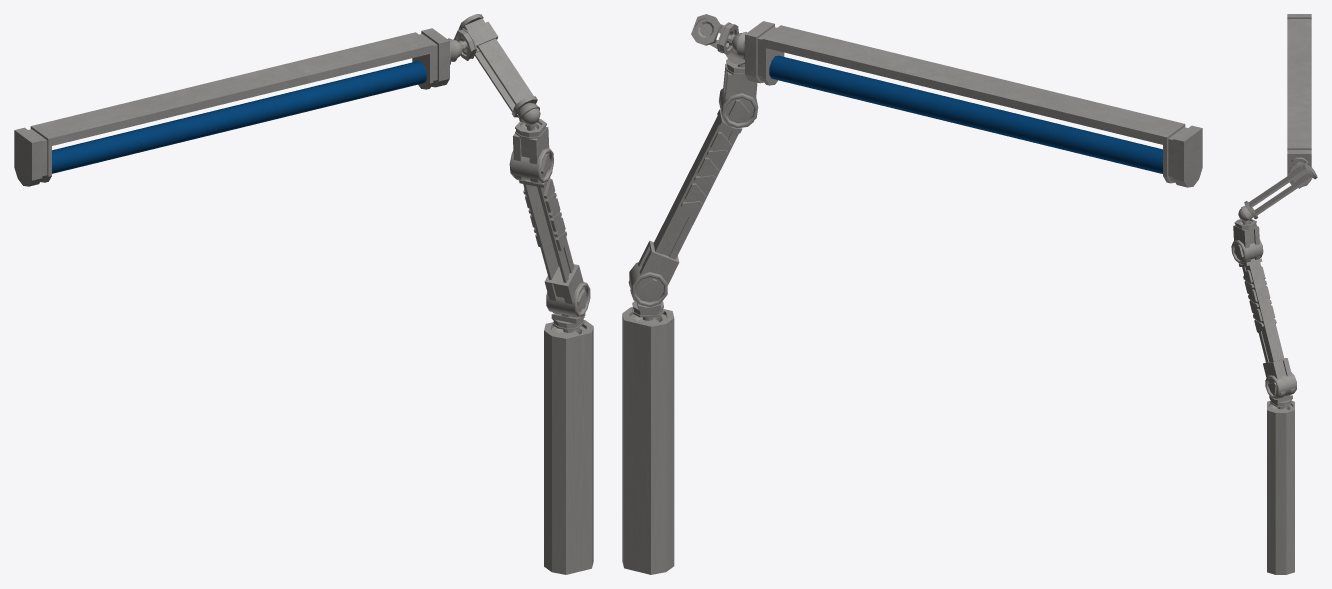
Rendered from Scifi Light 1.FBX.
3 views of the same model, side by side, from view 1: azimuth 30°, elevation 25°; view 2: azimuth 150°, elevation 25°; view 3: azimuth 270°, elevation 25° (orthographic). The views are drawn at different scales.
Parts seen in each view (by area): view 1: Scifi_Lights2_063; view 2: Scifi_Lights2_063; view 3: Scifi_Lights2_063.
Part boxes in pixels (x1,y1,x2,y2): Scifi_Lights2_063: [14, 14, 593, 574]; Scifi_Lights2_063: [622, 14, 1202, 574]; Scifi_Lights2_063: [1231, 14, 1317, 574].
Bounding box in the file's own units: 138 × 132 × 27.17.
